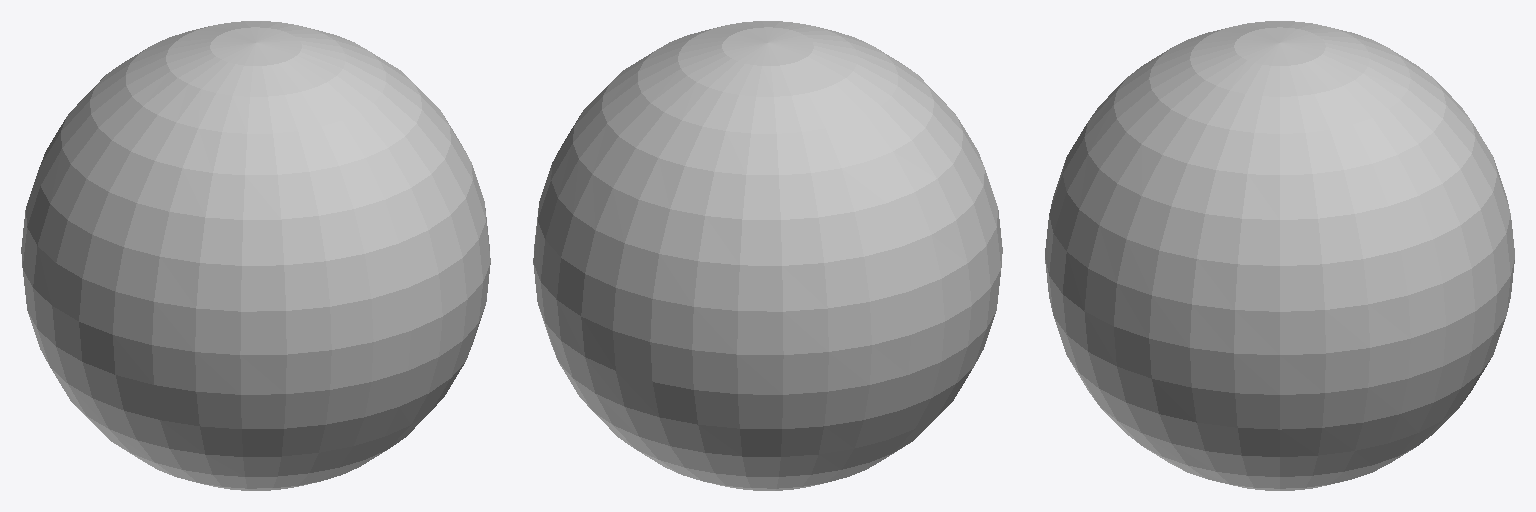
File: Ball.obj
3 renders of one model, left to right at view 1: azimuth 30°, elevation 25°; view 2: azimuth 150°, elevation 25°; view 3: azimuth 270°, elevation 25°, orthographic.
Parts seen in each view (by area): view 1: Sphere001; view 2: Sphere001; view 3: Sphere001.
Boxes of the visible parts, <box> form: Sphere001: <box>21,21,490,490</box>; Sphere001: <box>533,21,1002,490</box>; Sphere001: <box>1045,21,1514,490</box>.
Size of the model in its own units: 2 by 2 by 2.